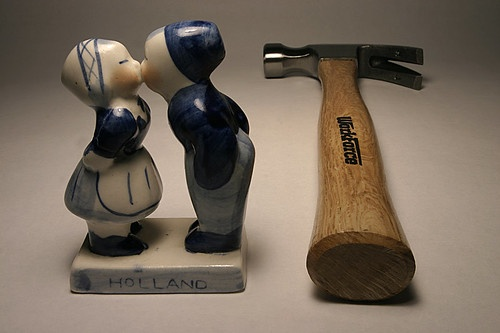hammer: (264, 39, 433, 300)
